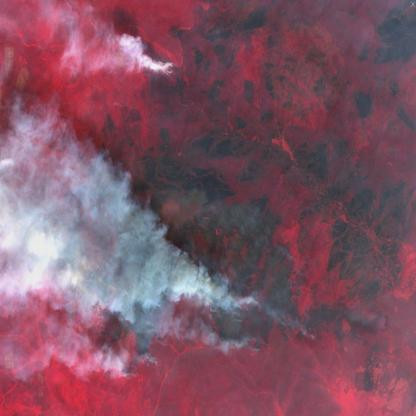fire: (58, 214, 171, 380), (205, 280, 273, 359), (157, 54, 180, 83)
